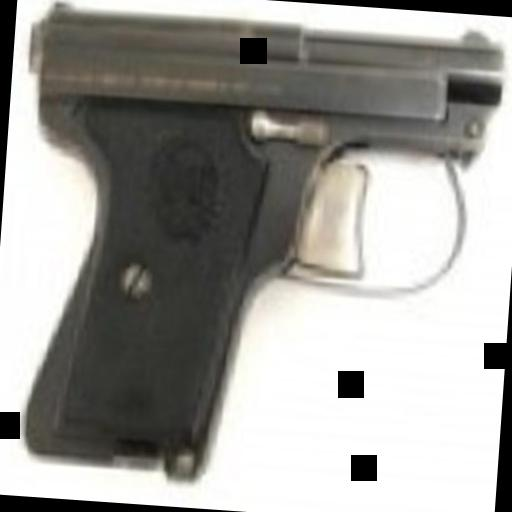Handgun: (0, 0, 504, 491)
